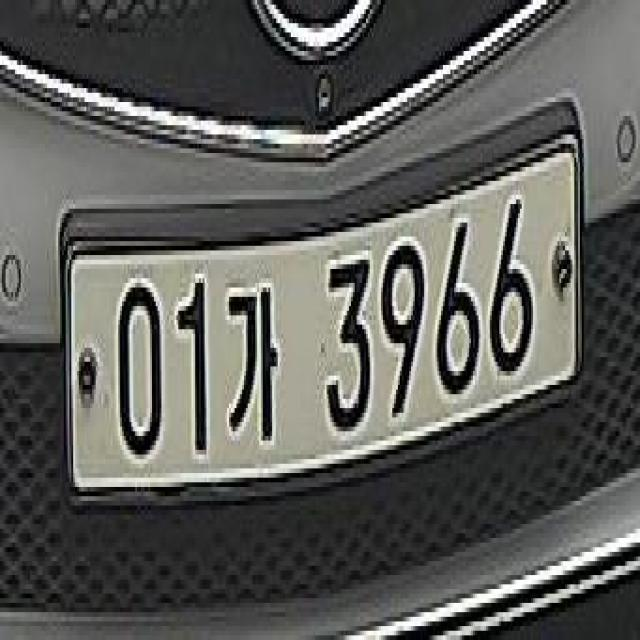illegal_plate: (58, 155, 590, 514)
